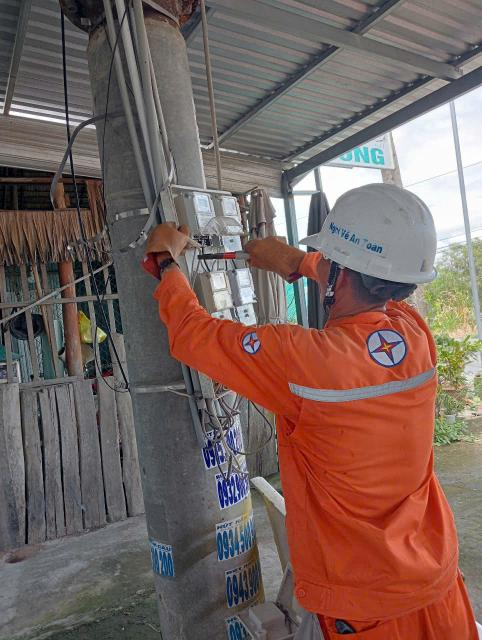gloves: (132, 203, 199, 277), (230, 233, 310, 281)
helmet: (298, 167, 452, 288)
